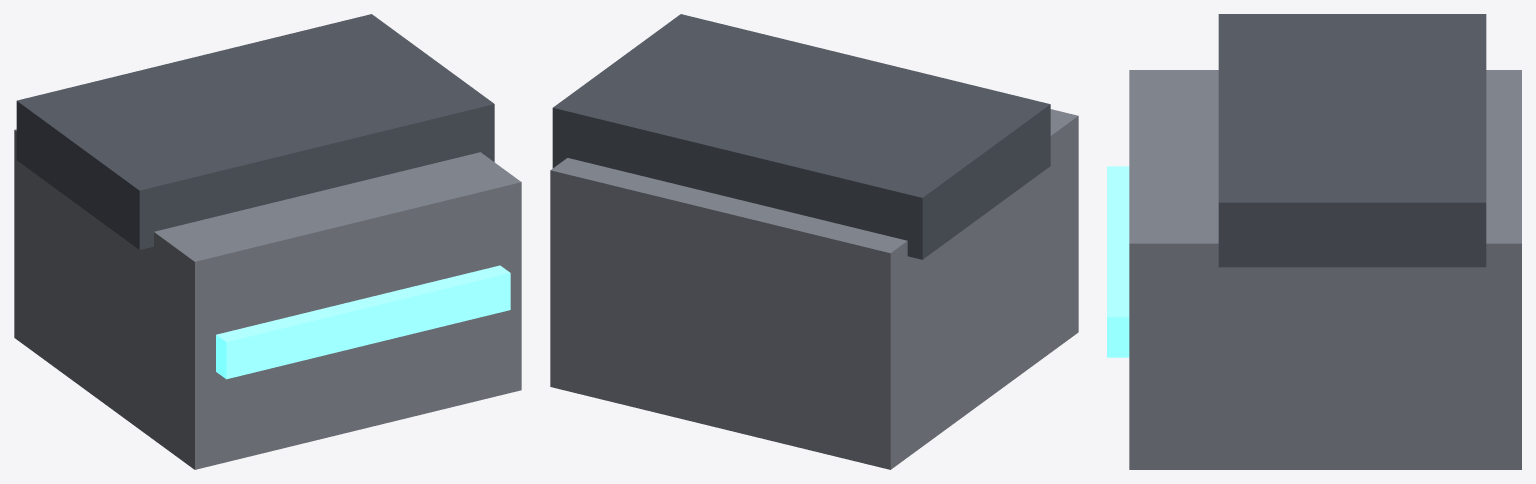
Rendered from head_heavy.glb.
3 renders of one model, left to right at view 1: azimuth 30°, elevation 25°; view 2: azimuth 150°, elevation 25°; view 3: azimuth 270°, elevation 25°, orthographic. The views are drawn at different scales.
Parts seen in each view (by area): view 1: head; view 2: head; view 3: head.
Part boxes in pixels (x1,y1,x2,y2): head: [14, 14, 521, 469]; head: [550, 14, 1078, 469]; head: [1107, 14, 1521, 469].
Size of the model in its own units: 0.5 by 0.34 by 0.465.
